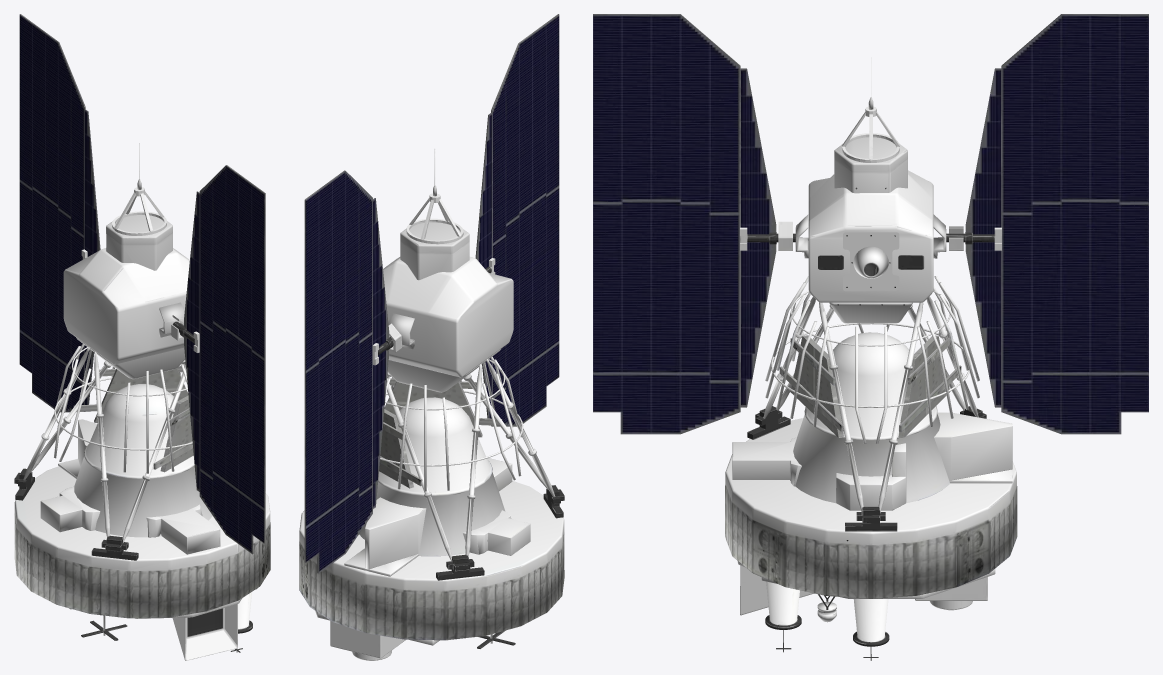
File: landsat.glb
3 renders of one model, left to right at view 1: azimuth 30°, elevation 25°; view 2: azimuth 150°, elevation 25°; view 3: azimuth 270°, elevation 25°, orthographic. The views are drawn at different scales.
Visible parts, largest first — view 1: L1_Baked; view 2: L1_Baked; view 3: L1_Baked.
Part boxes in pixels (x1,y1,x2,y2): L1_Baked: (14,14,270,660); L1_Baked: (299,14,564,660); L1_Baked: (593,14,1148,660).
Size of the model in its own units: 2.02 by 4.58 by 3.81.
Materials: 1 (1 with a texture image).
